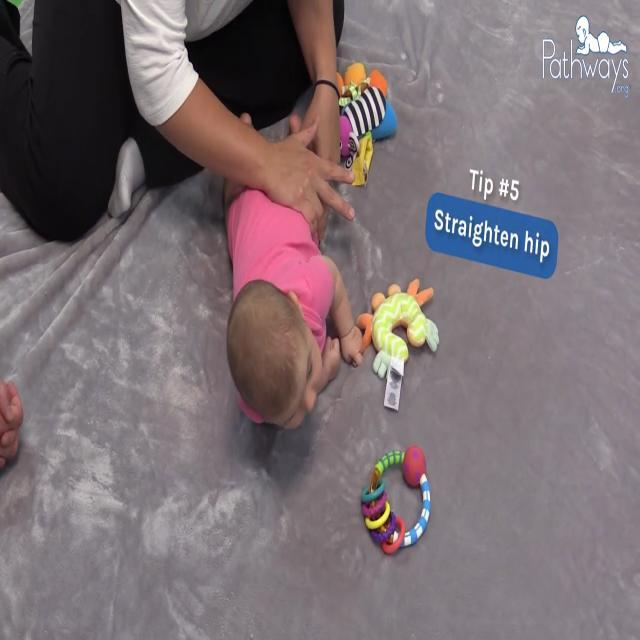baby: (217, 100, 377, 463)
